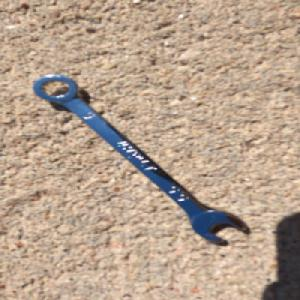Wrench: (31, 74, 251, 246)
